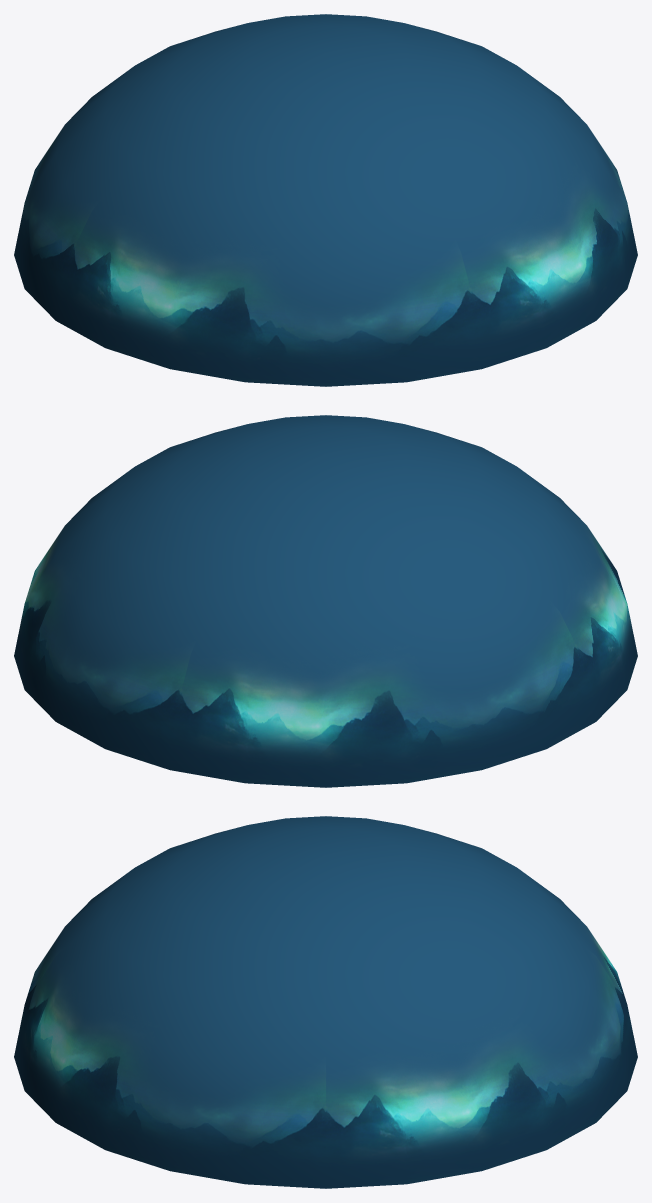
The model's file is sky_moon.FBX.
3 renders of one model, top to bottom at view 1: azimuth 30°, elevation 25°; view 2: azimuth 150°, elevation 25°; view 3: azimuth 270°, elevation 25°, orthographic.
Visible parts, largest first — view 1: Sphere001; view 2: Sphere001; view 3: Sphere001.
Part boxes in pixels (x1,y1,x2,y2): Sphere001: (14, 14, 637, 386); Sphere001: (14, 415, 637, 787); Sphere001: (14, 816, 637, 1188).
Size of the model in its own units: 208528 by 74467 by 208528.
